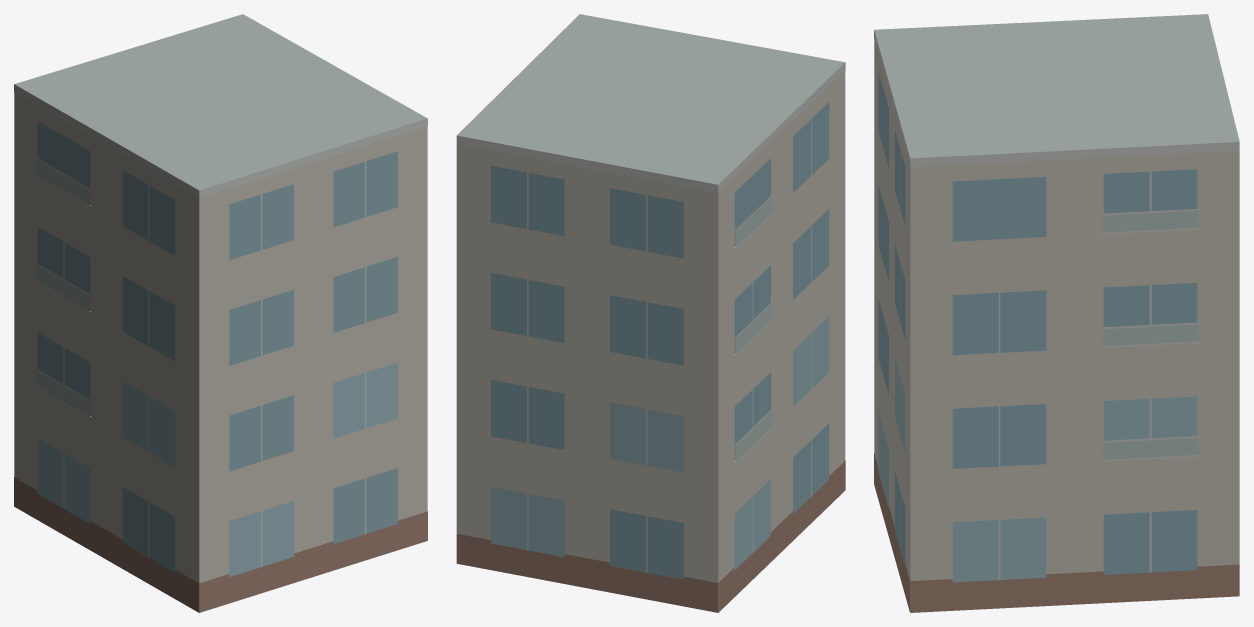
File: survey-upis-33036165.glb
3 renders of one model, left to right at view 1: azimuth 30°, elevation 25°; view 2: azimuth 150°, elevation 25°; view 3: azimuth 270°, elevation 25°, orthographic. The views are drawn at different scales.
Parts seen in each view (by area): view 1: survey-upis-33036165.tmp; view 2: survey-upis-33036165.tmp; view 3: survey-upis-33036165.tmp.
Part boxes in pixels (x1=…): survey-upis-33036165.tmp: x1=14, y1=14, x2=427, y2=612; survey-upis-33036165.tmp: x1=456, y1=14, x2=845, y2=612; survey-upis-33036165.tmp: x1=874, y1=14, x2=1239, y2=612.
Size of the model in its own units: 8.74 by 12.8 by 9.34.
